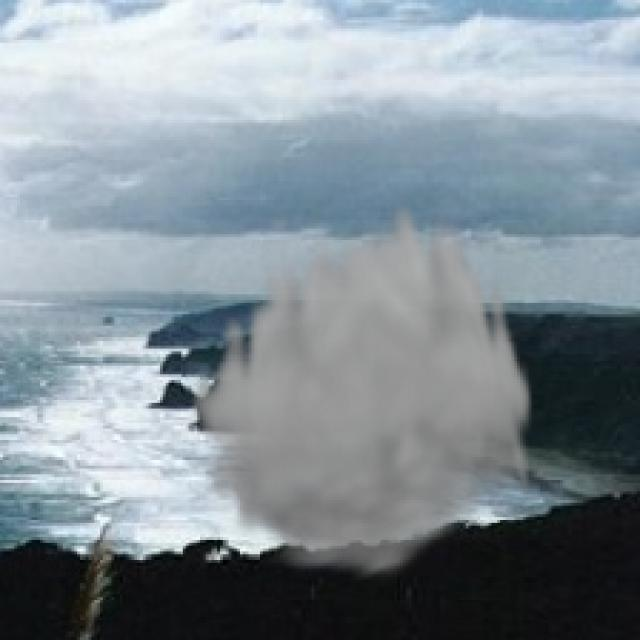smoke: (186, 188, 537, 586)
